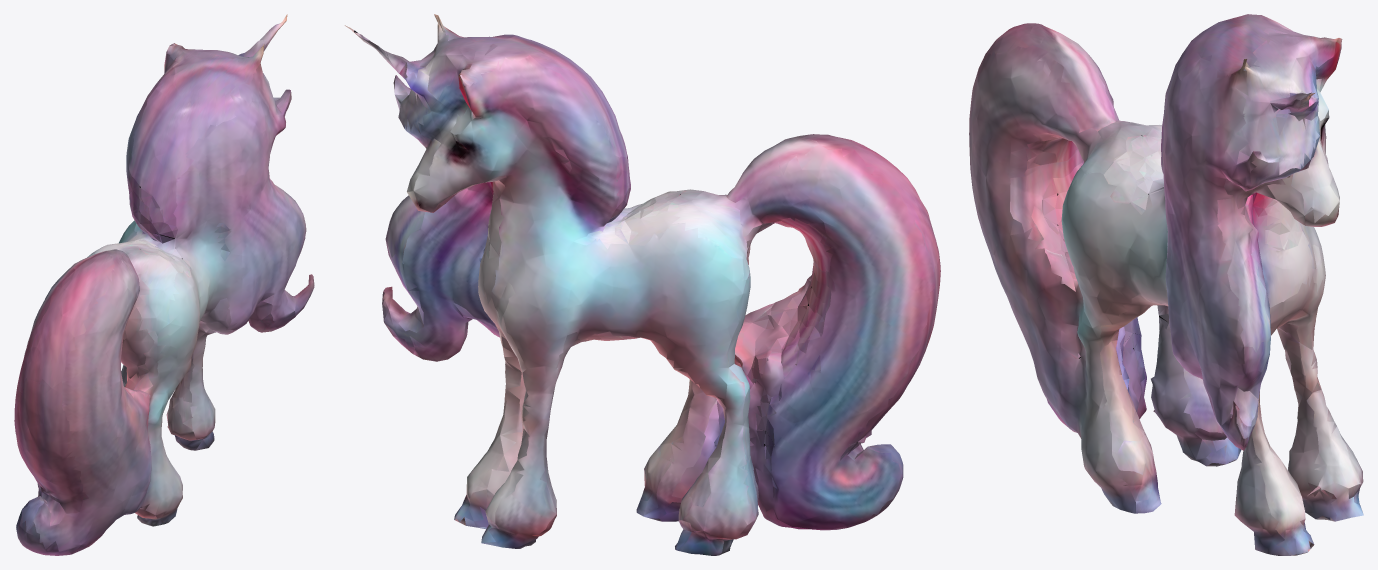
Rendered from unicorn.glb.
3 views of the same model, side by side, from view 1: azimuth 30°, elevation 25°; view 2: azimuth 150°, elevation 25°; view 3: azimuth 270°, elevation 25° (orthographic). The views are drawn at different scales.
Visible parts, largest first — view 1: world; view 2: world; view 3: world.
Boxes of the visible parts, x1=… form: world: x1=14, y1=14, x2=314, y2=555; world: x1=344, y1=14, x2=940, y2=555; world: x1=969, y1=14, x2=1363, y2=555.
Bounding box in the file's own units: 0.7326 × 0.7589 × 0.4999.
Materials: 1 (1 with a texture image).
